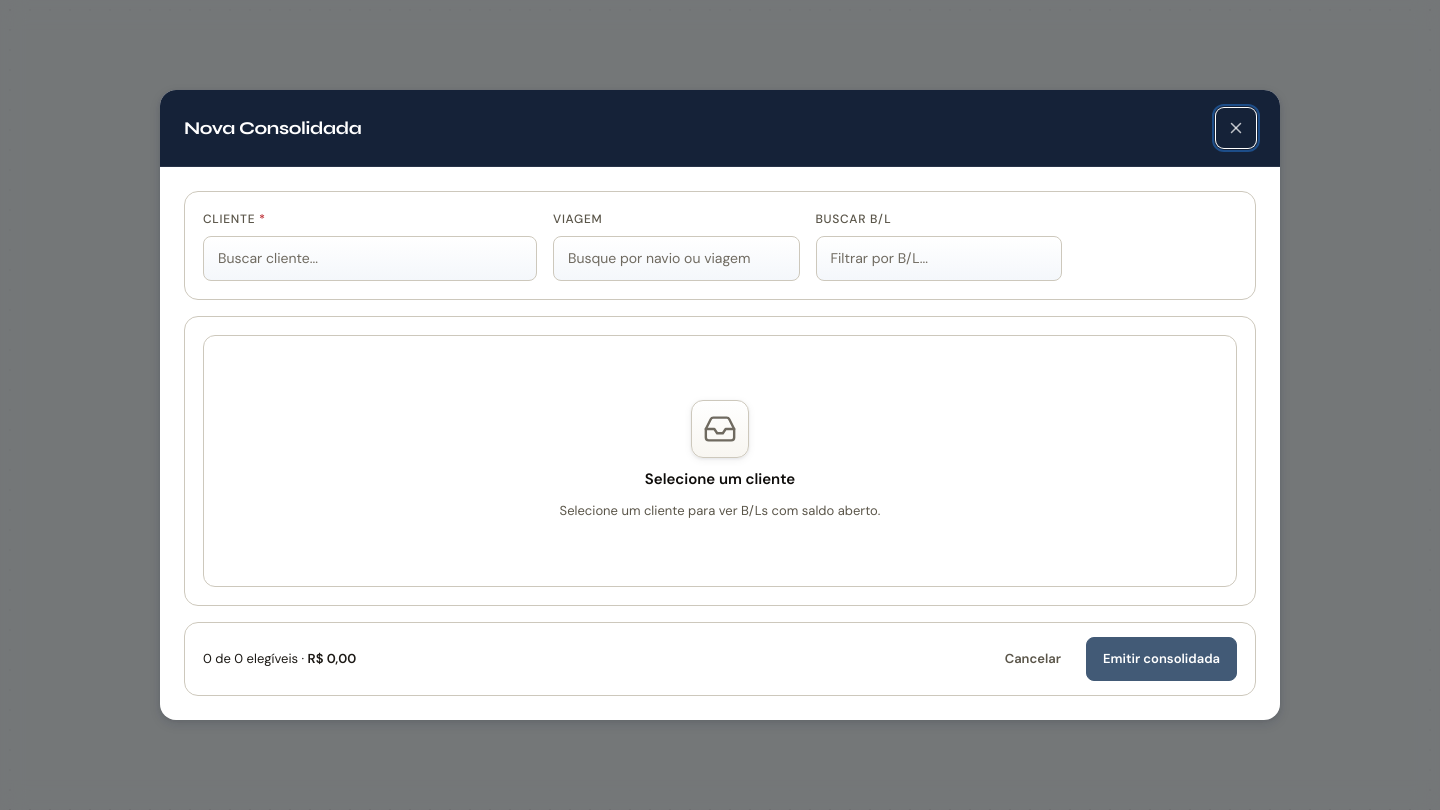
Scenario: ConsolidatedInvoiceModal — seletor de cliente › preenche o campo e fecha o dropdown ao selecionar
Click the dropdown with placeholder "Buscar cliente...". click: point(370, 259)
box: left=203, top=236, right=537, bottom=281
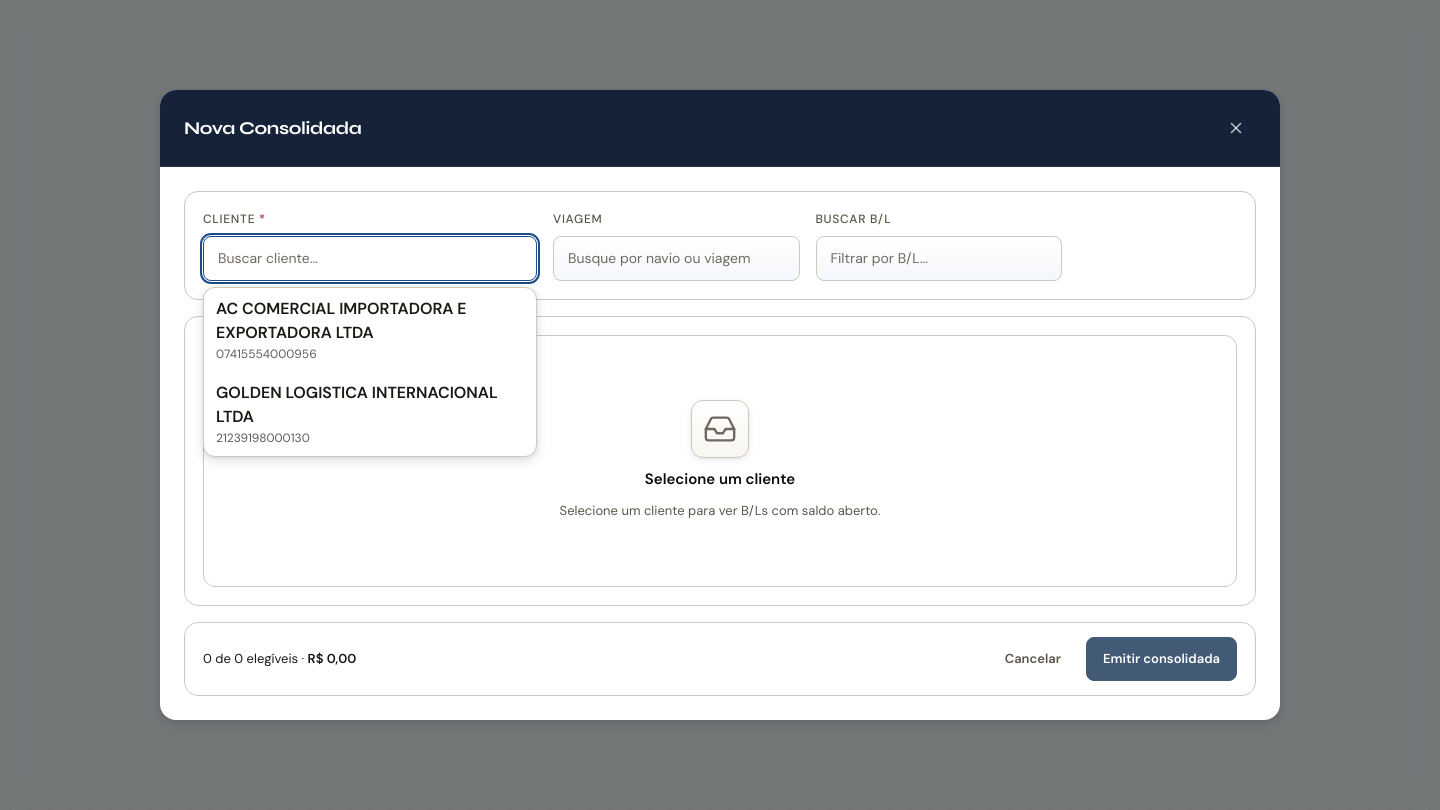
Click the text "GOLDEN LOGISTICA INTERNACIONAL LTDA". click: point(370, 405)
box: left=216, top=381, right=524, bottom=429
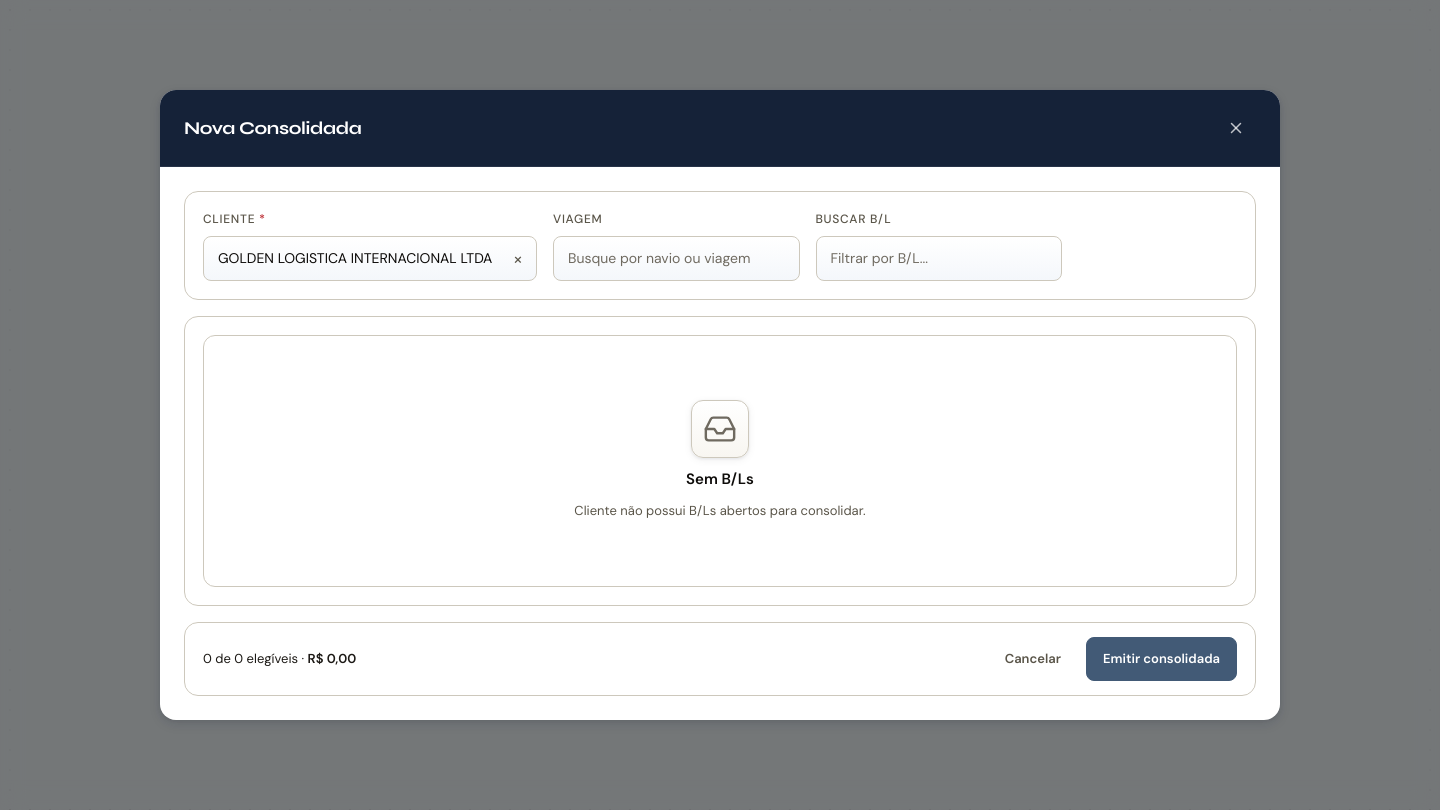
Expected: the dropdown with placeholder "Buscar cliente..." holds "GOLDEN LOGISTICA INTERNACIONAL LTDA", left=203, top=236, right=537, bottom=281
Expected: the list is gone
